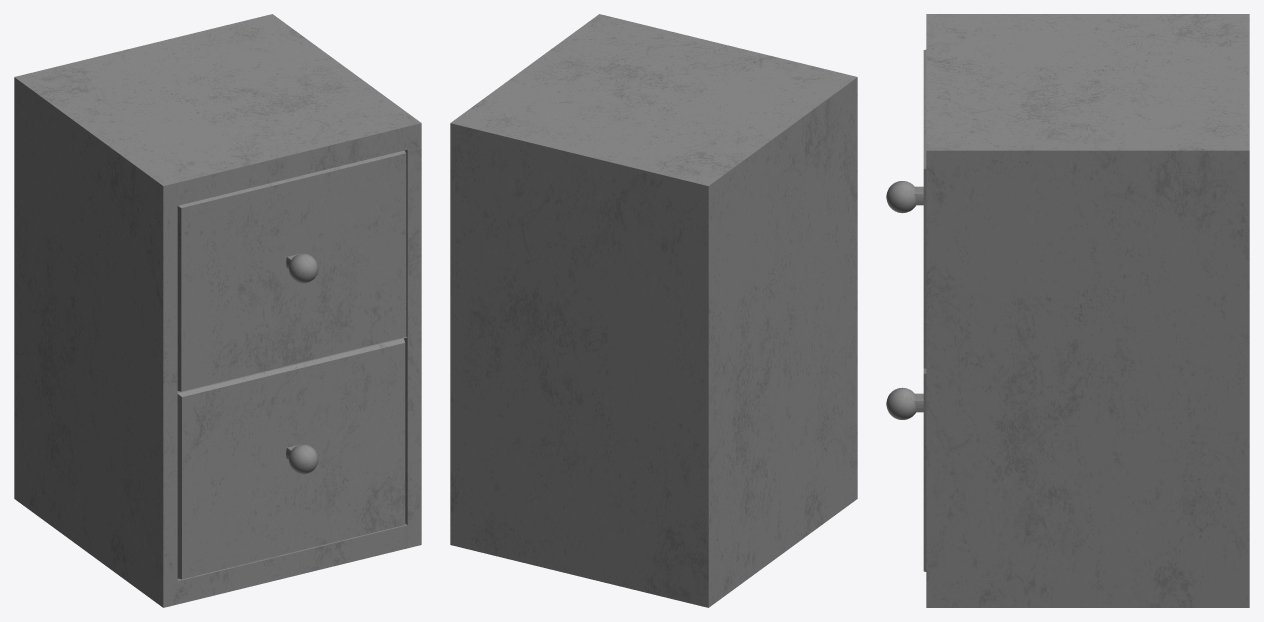
File: Table with drawers.fbx
3 renders of one model, left to right at view 1: azimuth 30°, elevation 25°; view 2: azimuth 150°, elevation 25°; view 3: azimuth 270°, elevation 25°, orthographic. The views are drawn at different scales.
Visible parts, largest first — view 1: Table_with_drawers, Handle2, Handle1; view 2: Table_with_drawers; view 3: Table_with_drawers, Handle2, Handle1.
Boxes of the visible parts, box(x1,y1,x2,y2) form: Table_with_drawers: box(14, 14, 421, 607); Handle2: box(286, 444, 318, 474); Handle1: box(286, 253, 318, 283); Table_with_drawers: box(450, 14, 857, 607); Table_with_drawers: box(923, 14, 1249, 607); Handle2: box(886, 387, 923, 419); Handle1: box(886, 181, 923, 213).
Bounding box in the file's own units: 1 × 1.56 × 1.12.
1 material, 1 textured.
